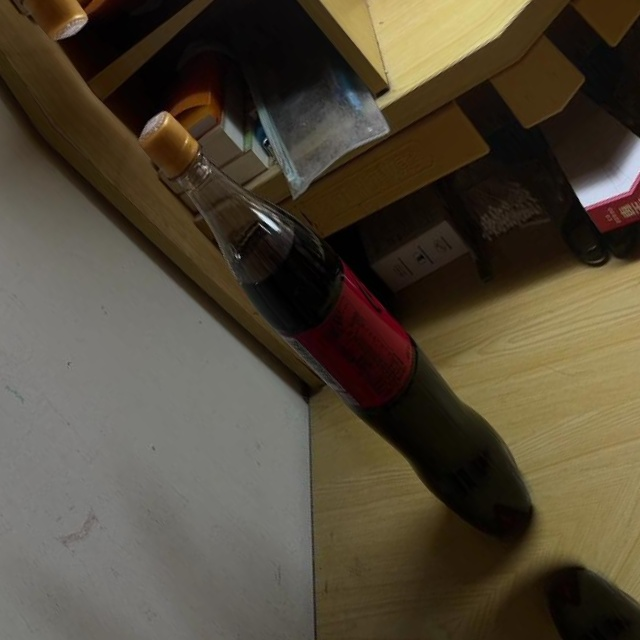Coca-Cola: (116, 76, 556, 571)
